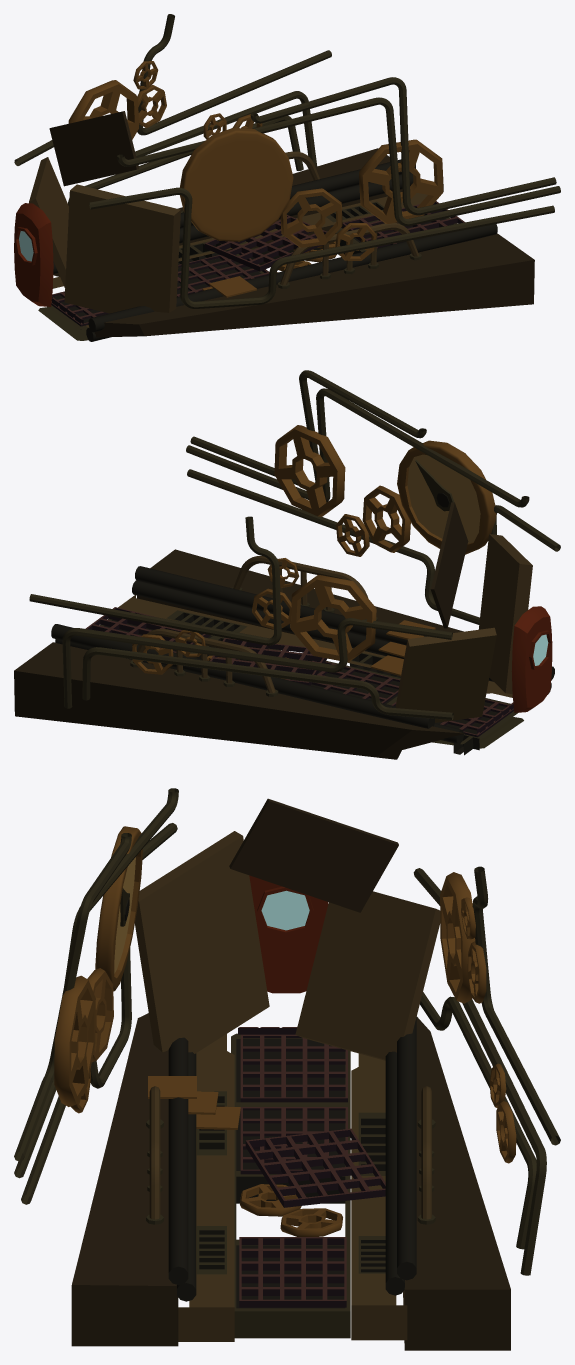
File: EngineRoom.fbx
3 renders of one model, top to bottom at view 1: azimuth 30°, elevation 25°; view 2: azimuth 150°, elevation 25°; view 3: azimuth 270°, elevation 25°, orthographic. The views are drawn at different scales.
Parts seen in each view (by area): view 1: EngineFloor_1, ConcreateSlab_2, Dial, Line003, ConcreateSlab_3, Line001, EngineRM_Pipe2, Line002, EngineHatch, Valve, Grate_4, ConcreateSlab_1 (+18 smaller); view 2: EngineFloor_2, ConcreateSlab_1, Dial, ConcreateSlab_2, Line004, Valve, EngineFloor_1, Valve003, EngineRM_Pipe4, Line005, Line001, EngineHatch (+18 smaller); view 3: EngineFloor_1, ConcreateSlab_2, EngineFloor_2, ConcreateSlab_1, MainFlooring_EngineRM, ConcreateSlab_3, Ground_vent1, Ground_Vent2, Grate_4, Grate_2, EngineRM_Pipe4, EngineHatch (+23 smaller).
Part boxes in pixels (x1=…): EngineFloor_1: x1=94, y1=233, x2=534, y2=337; ConcreateSlab_2: x1=64, y1=184, x2=180, y2=313; Dial: x1=180, y1=128, x2=293, y2=241; Line003: x1=89, y1=187, x2=554, y2=308; ConcreateSlab_3: x1=49, y1=111, x2=139, y2=186; Line001: x1=117, y1=97, x2=560, y2=226; EngineRM_Pipe2: x1=88, y1=224, x2=497, y2=332; Line002: x1=250, y1=77, x2=556, y2=215; EngineHatch: x1=14, y1=203, x2=53, y2=306; Valve: x1=359, y1=139, x2=443, y2=223; Grate_4: x1=204, y1=215, x2=326, y2=271; ConcreateSlab_1: x1=29, y1=157, x2=68, y2=288; EngineFloor_2: x1=14, y1=642, x2=464, y2=759; ConcreateSlab_1: x1=395, y1=627, x2=496, y2=722; Dial: x1=397, y1=440, x2=496, y2=554; ConcreateSlab_2: x1=478, y1=534, x2=532, y2=693; Line004: x1=62, y1=618, x2=452, y2=708; Valve: x1=274, y1=425, x2=345, y2=516; EngineFloor_1: x1=137, y1=549, x2=463, y2=642; Valve003: x1=290, y1=575, x2=376, y2=661; EngineRM_Pipe4: x1=51, y1=624, x2=434, y2=728; Line005: x1=82, y1=647, x2=453, y2=720; Line001: x1=186, y1=388, x2=529, y2=507; EngineHatch: x1=511, y1=606, x2=552, y2=712; EngineFloor_1: x1=71, y1=1013, x2=178, y2=1346; ConcreateSlab_2: x1=135, y1=831, x2=269, y2=1053; EngineFloor_2: x1=403, y1=1016, x2=510, y2=1350; ConcreateSlab_1: x1=295, y1=891, x2=440, y2=1060; MainFlooring_EngineRM: x1=231, y1=1033, x2=350, y2=1338; ConcreateSlab_3: x1=229, y1=798, x2=398, y2=912; Ground_vent1: x1=178, y1=1034, x2=234, y2=1341; Ground_Vent2: x1=351, y1=1053, x2=407, y2=1340; Grate_4: x1=245, y1=1128, x2=385, y2=1207; Grate_2: x1=239, y1=1237, x2=346, y2=1307; EngineRM_Pipe4: x1=397, y1=1017, x2=416, y2=1280; EngineHatch: x1=249, y1=875, x2=328, y2=993.
Size of the model in its own units: 27.42 by 15.42 by 21.09.
